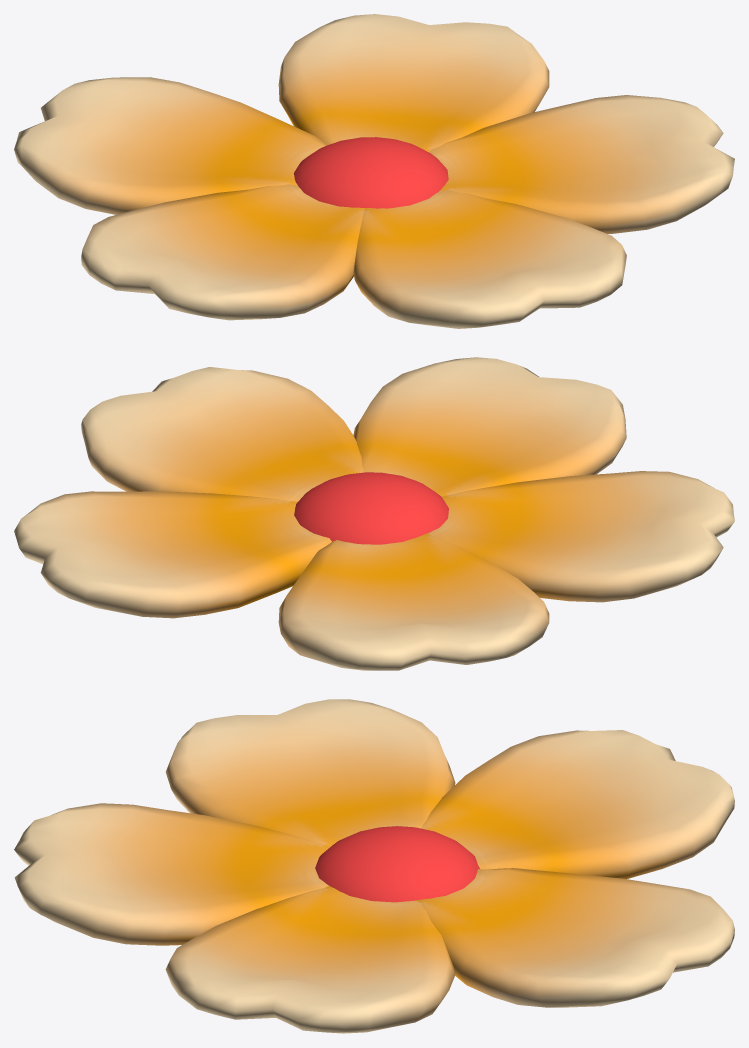
Rendered from hoa5.fbx.
3 views of the same model, one above another, from view 1: azimuth 30°, elevation 25°; view 2: azimuth 150°, elevation 25°; view 3: azimuth 270°, elevation 25° (orthographic). The views are drawn at different scales.
Parts seen in each view (by area): view 1: polySurface41, polySurface78, polySurface79, polySurface42, polySurface39, polySurface38; view 2: polySurface42, polySurface79, polySurface41, polySurface39, polySurface78, polySurface38; view 3: polySurface78, polySurface42, polySurface39, polySurface41, polySurface79, polySurface38.
Part boxes in pixels (box(x1,y1,x2,y2)): polySurface41: box(429, 95, 734, 233); polySurface78: box(14, 77, 326, 214); polySurface79: box(81, 184, 364, 320); polySurface42: box(278, 14, 549, 152); polySurface39: box(353, 190, 626, 328); polySurface38: box(294, 137, 448, 208); polySurface42: box(14, 491, 331, 618); polySurface79: box(428, 471, 734, 602); polySurface41: box(81, 367, 363, 501); polySurface39: box(353, 357, 626, 496); polySurface78: box(278, 533, 549, 670); polySurface38: box(294, 472, 448, 544); polySurface78: box(421, 730, 734, 878); polySurface42: box(416, 868, 734, 1007); polySurface39: box(14, 803, 329, 945); polySurface41: box(165, 886, 455, 1033); polySurface79: box(165, 699, 455, 846); polySurface38: box(315, 826, 479, 902).
Size of the model in its own units: 78.23 by 10.8 by 74.95.
1 material, 1 textured.
